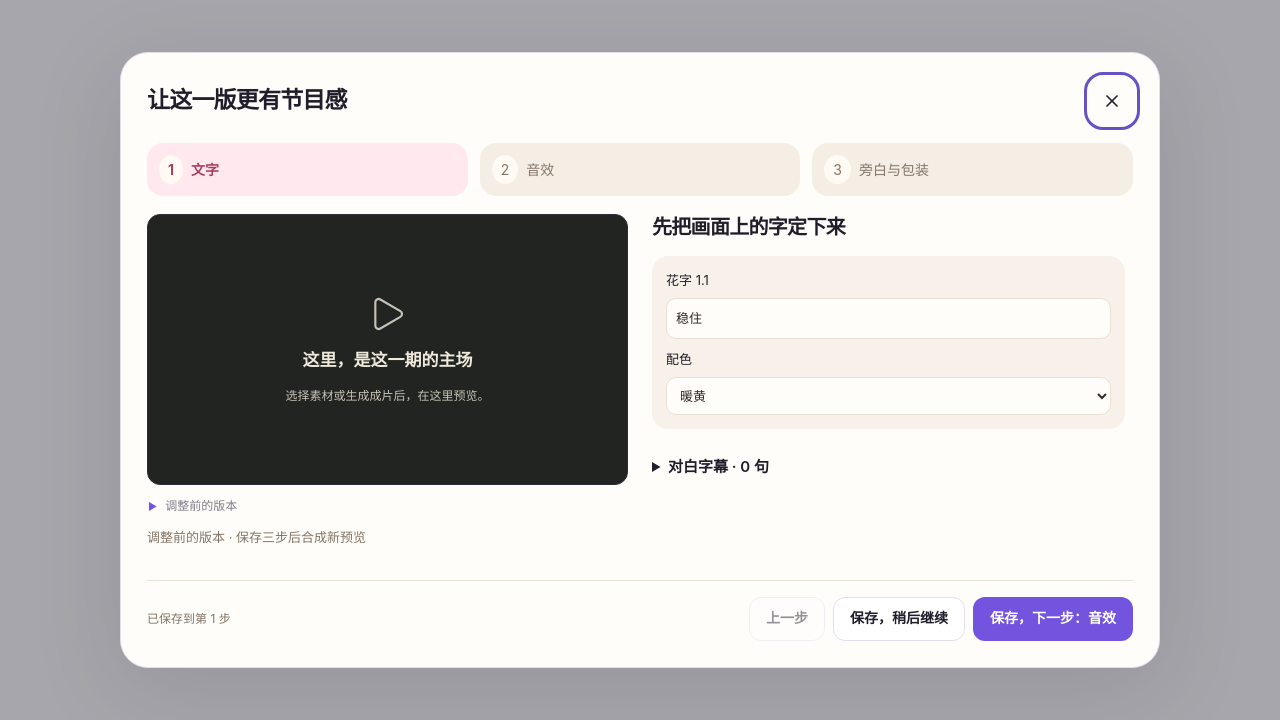
Test: keeps unsaved input on failure and does not advance or create a version
The width and height of the screenshot is (1280, 720).
Replace the text in the field labelled "花字 1.1" with "再试一次" at (888, 319), box [666,298,1111,339]
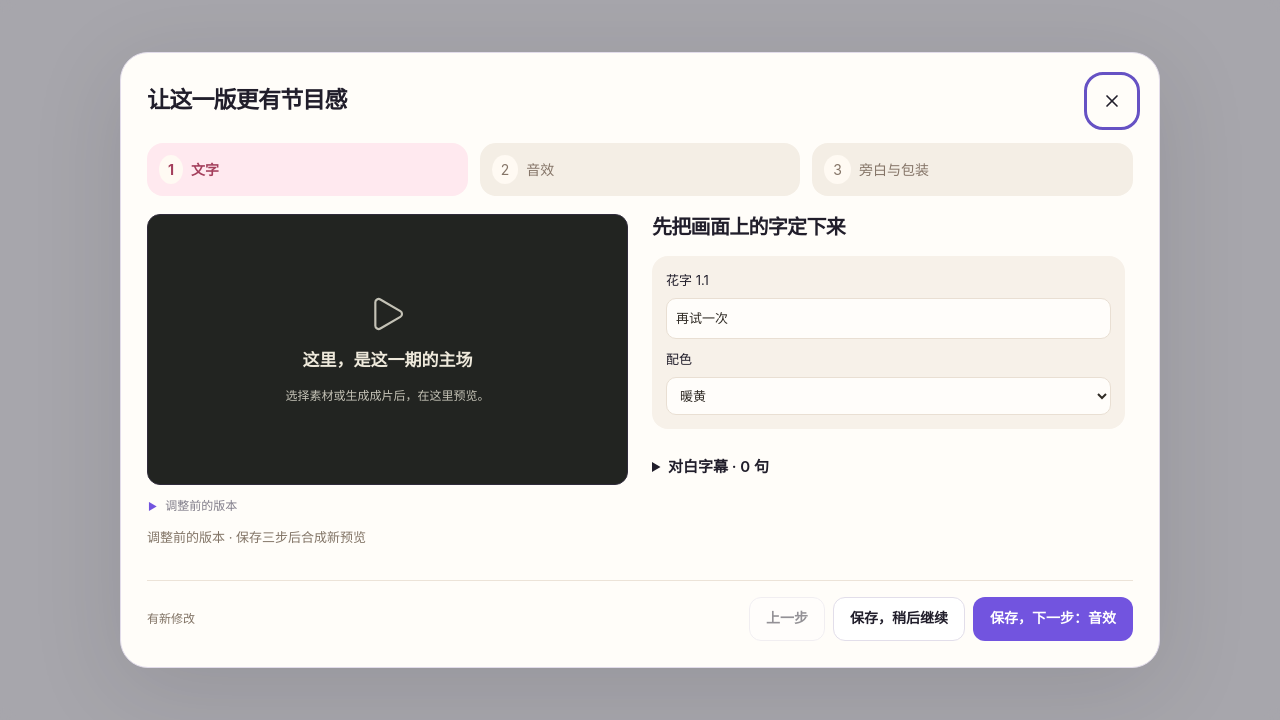
Click the button "保存，下一步：音效" at (1053, 619), box [973,597,1133,641]
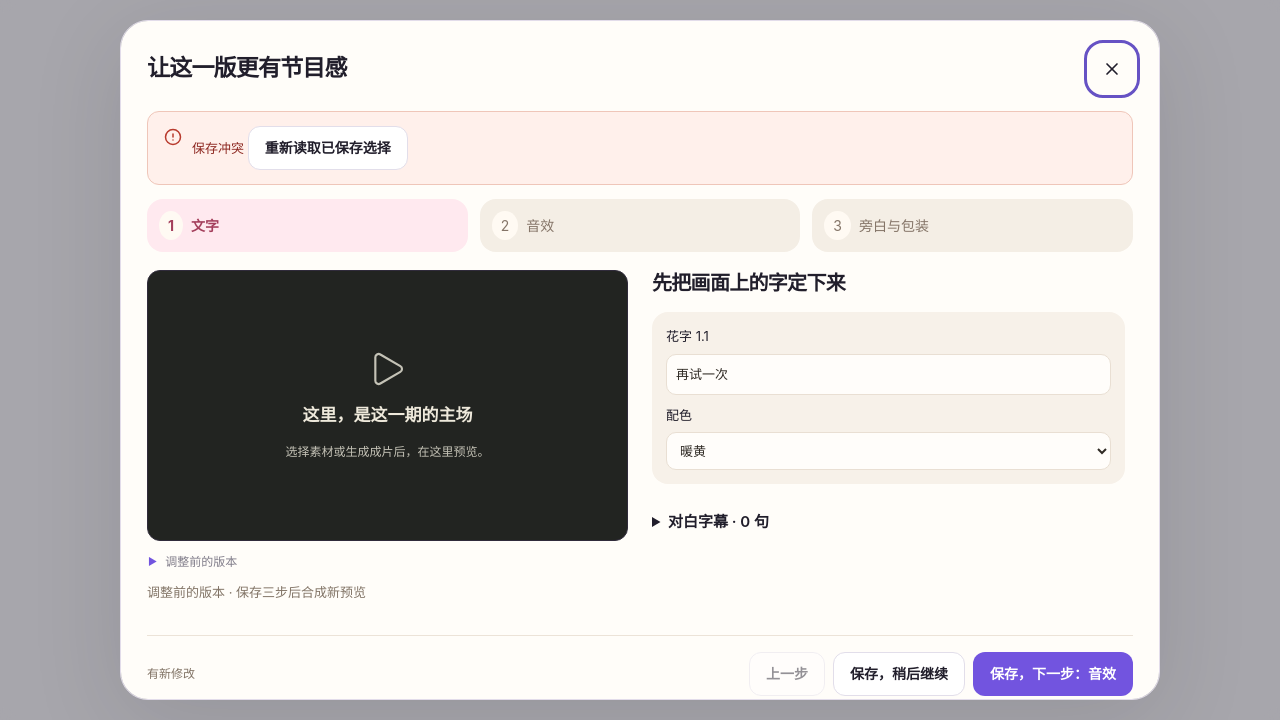
Result: the text "保存冲突" is shown at [192,140,244,156]
